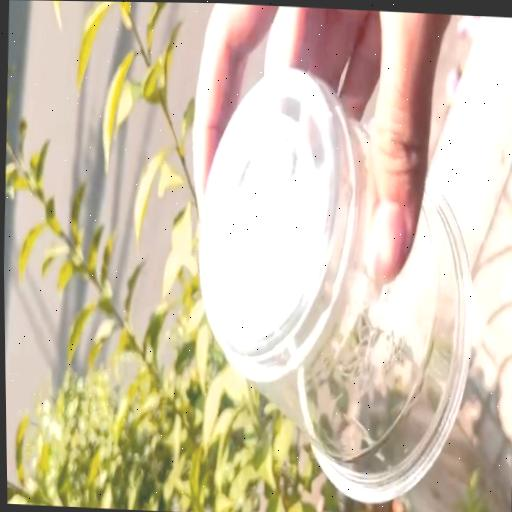ly_giay: (198, 67, 470, 498)
